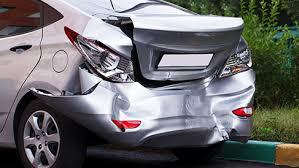boot-dent: (123, 0, 218, 76)
quaterpanel-dent: (40, 29, 127, 105)
rear-bumper-dent: (111, 87, 245, 142)
